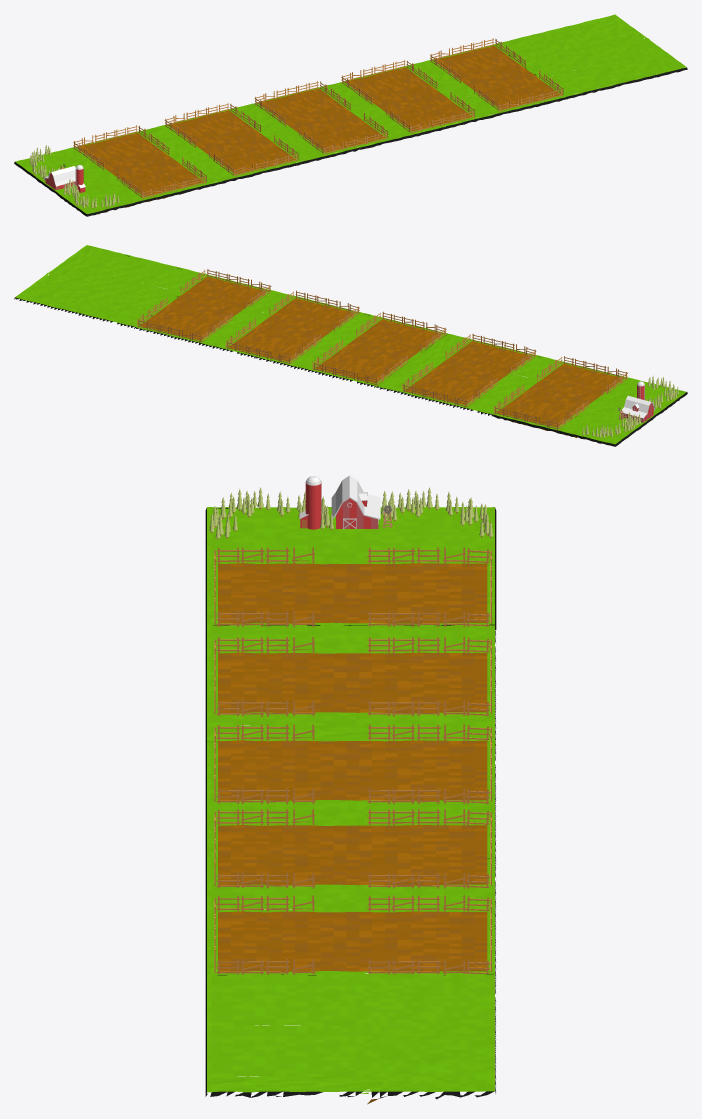
File: çiftlik.fbx
The picture shows the model from 3 angles, top to bottom: view 1: azimuth 30°, elevation 25°; view 2: azimuth 150°, elevation 25°; view 3: azimuth 270°, elevation 25°; orthographic projection. The views are drawn at different scales.
Parts seen in each view (by area): view 1: torpak.004, solcit1, cit.004, solcit2, solcit3, solcit5, solcit4, sagcit1, solcit3.001, sagcit2, solcit5.001, bina; view 2: torpak.004, solcit5, solcit2, solcit3, solcit1, cit.004, solcit3.001, sagcit2, solcit4, bina, solcit5.001, sagcit1; view 3: torpak.004, solcit2, cit.004, solcit3, solcit1, solcit5, bina, sagcit2, solcit5.001, sagcit1, solcit3.001, solcit4 (+1 smaller).
Part boxes in pixels (left/top/right/bottom): torpak.004: left=14, top=14, right=687, bottom=216; solcit1: left=73, top=125, right=169, bottom=170; cit.004: left=341, top=60, right=437, bottom=104; solcit2: left=164, top=103, right=260, bottom=147; solcit3: left=254, top=81, right=350, bottom=125; solcit5: left=430, top=38, right=525, bottom=83; solcit4: left=385, top=91, right=474, bottom=133; sagcit1: left=117, top=157, right=206, bottom=198; solcit3.001: left=298, top=112, right=388, bottom=154; sagcit2: left=209, top=134, right=298, bottom=176; solcit5.001: left=474, top=70, right=563, bottom=111; bina: left=44, top=166, right=75, bottom=189; torpak.004: left=14, top=245, right=687, bottom=446; solcit5: left=137, top=297, right=232, bottom=342; solcit2: left=402, top=361, right=497, bottom=406; solcit3: left=312, top=339, right=407, bottom=385; solcit1: left=493, top=384, right=589, bottom=429; cit.004: left=225, top=318, right=321, bottom=363; solcit3.001: left=356, top=311, right=446, bottom=352; sagcit2: left=445, top=334, right=536, bottom=374; solcit4: left=269, top=290, right=359, bottom=331; bina: left=622, top=395, right=655, bottom=422; solcit5.001: left=180, top=269, right=271, bottom=309; sagcit1: left=537, top=356, right=627, bottom=396; torpak.004: left=205, top=506, right=496, bottom=1104; solcit2: left=367, top=636, right=492, bottom=716; cit.004: left=367, top=809, right=492, bottom=888; solcit3: left=367, top=724, right=492, bottom=804; solcit1: left=367, top=547, right=492, bottom=627; solcit5: left=367, top=895, right=492, bottom=974; bina: left=331, top=475, right=380, bottom=529; sagcit2: left=214, top=636, right=315, bottom=716; solcit5.001: left=214, top=895, right=315, bottom=974; sagcit1: left=214, top=547, right=315, bottom=627; solcit3.001: left=214, top=724, right=315, bottom=804; solcit4: left=214, top=809, right=315, bottom=888.
Size of the model in its own units: 15919 by 1130 by 3324.
